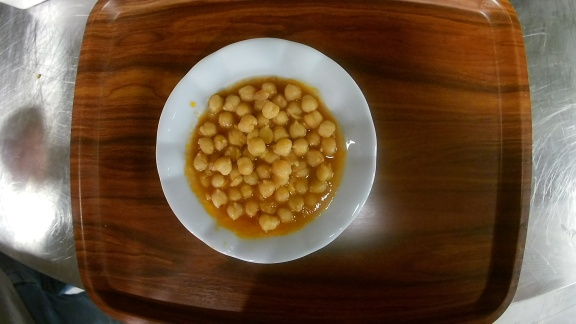sulunohut: (154, 35, 378, 266)
